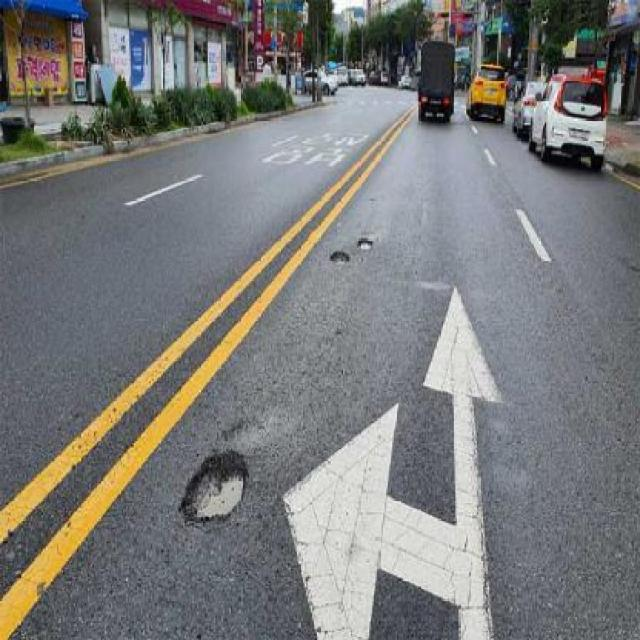Pothole: (180, 439, 252, 524), (328, 248, 352, 272), (357, 235, 375, 254)
